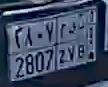0: (36, 31, 45, 74)
2: (12, 23, 25, 79)
7: (45, 21, 54, 71)
8: (24, 25, 35, 76)
B: (78, 21, 86, 62)
V: (67, 21, 76, 64)
Z: (58, 20, 67, 67)
